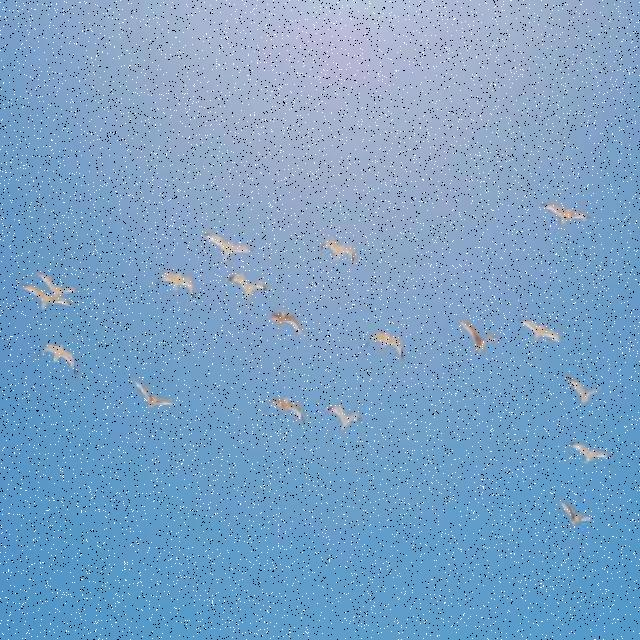bird: (18, 282, 74, 310), (201, 232, 254, 260), (458, 318, 498, 354), (133, 378, 178, 410), (35, 343, 77, 377), (154, 270, 197, 302), (34, 270, 80, 298), (540, 203, 591, 228), (364, 330, 404, 361), (262, 308, 304, 337), (263, 396, 306, 424), (227, 273, 267, 301), (565, 376, 601, 407), (517, 318, 563, 342), (558, 498, 594, 528), (318, 238, 356, 264), (568, 442, 612, 464), (326, 405, 360, 430)
